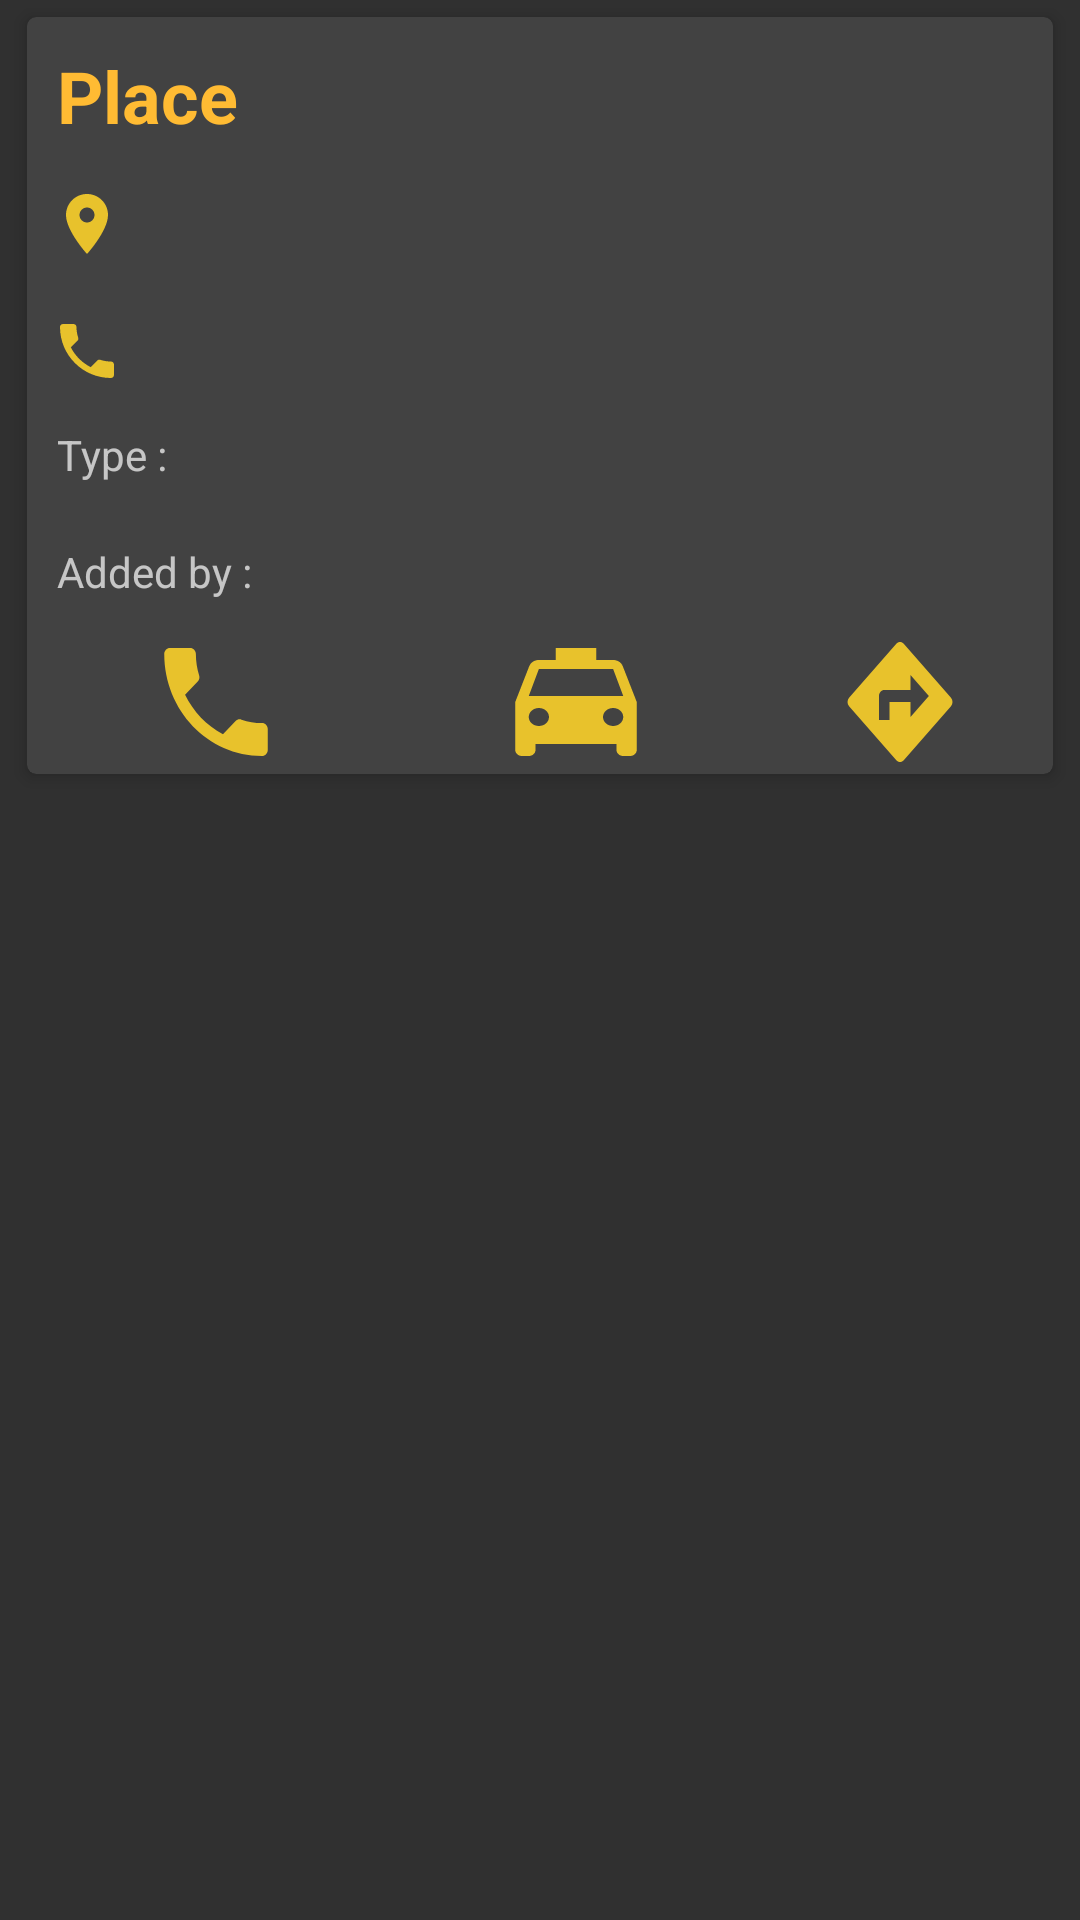

Locate icon controls on the screen. Image size 1080×1920, boxes as (x1, y1, x2, y2).
call: (60, 324, 114, 378), (164, 648, 268, 756)
directions: (847, 642, 953, 762)
directions car: (515, 648, 637, 756)
location on: (66, 194, 108, 254)
